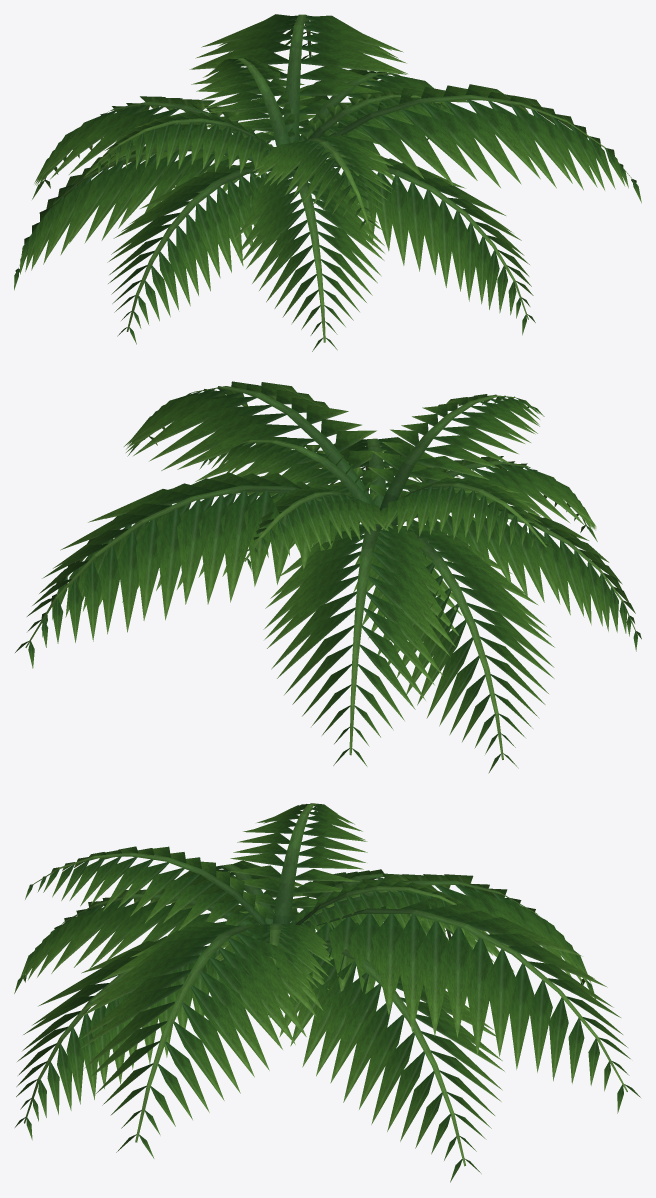
Rendered from Fern_Clump.glb.
3 views of the same model, one above another, from view 1: azimuth 30°, elevation 25°; view 2: azimuth 150°, elevation 25°; view 3: azimuth 270°, elevation 25° (orthographic). The views are drawn at different scales.
Visible parts, largest first — view 1: Fern_Clump__Fronds; view 2: Fern_Clump__Fronds; view 3: Fern_Clump__Fronds.
Part boxes in pixels (x1,y1,x2,y2): Fern_Clump__Fronds: [14, 14, 641, 351]; Fern_Clump__Fronds: [15, 381, 641, 773]; Fern_Clump__Fronds: [14, 803, 640, 1182].
Bounding box in the file's own units: 8.45 × 3.18 × 8.21.
1 material, 1 textured.
